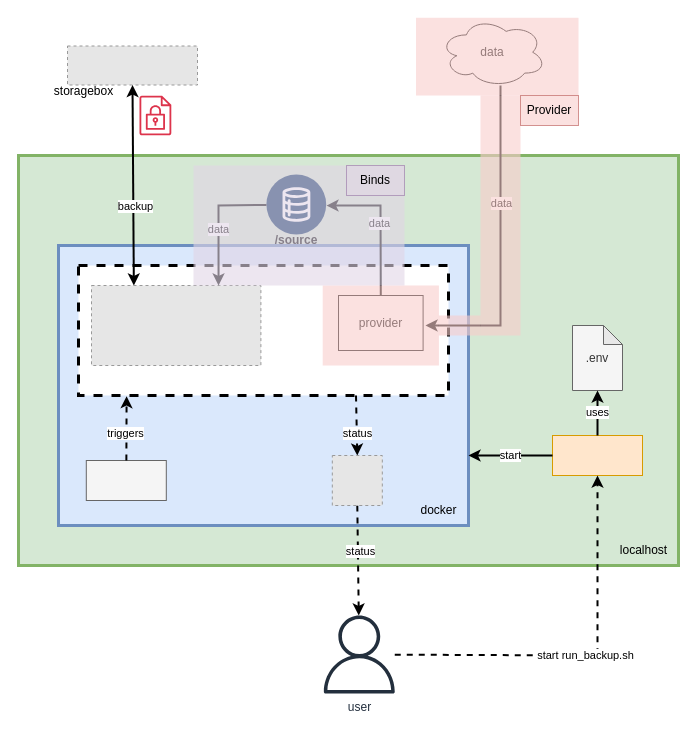
The diagram is 697 pixels wide and 732 high, and some of its shapes have lost their labels. Grey dashed boxes stand in for pictures. Here are the shapes that lost their labels. From the top down, the centre of each, then its label:
At pixel 597 455: "run_backup.sh".
At pixel 125 480: "cron job".
